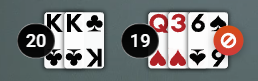3: (167, 9, 189, 35)
6: (185, 8, 211, 35)
k: (61, 7, 85, 35), (42, 9, 66, 36)
q: (146, 11, 170, 35)
